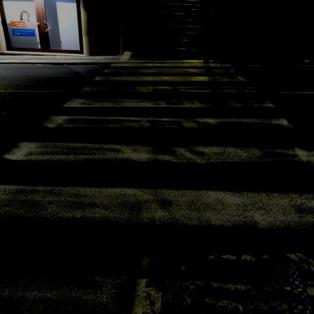Paso de Cebra: (34, 96, 297, 136), (90, 68, 252, 84)
